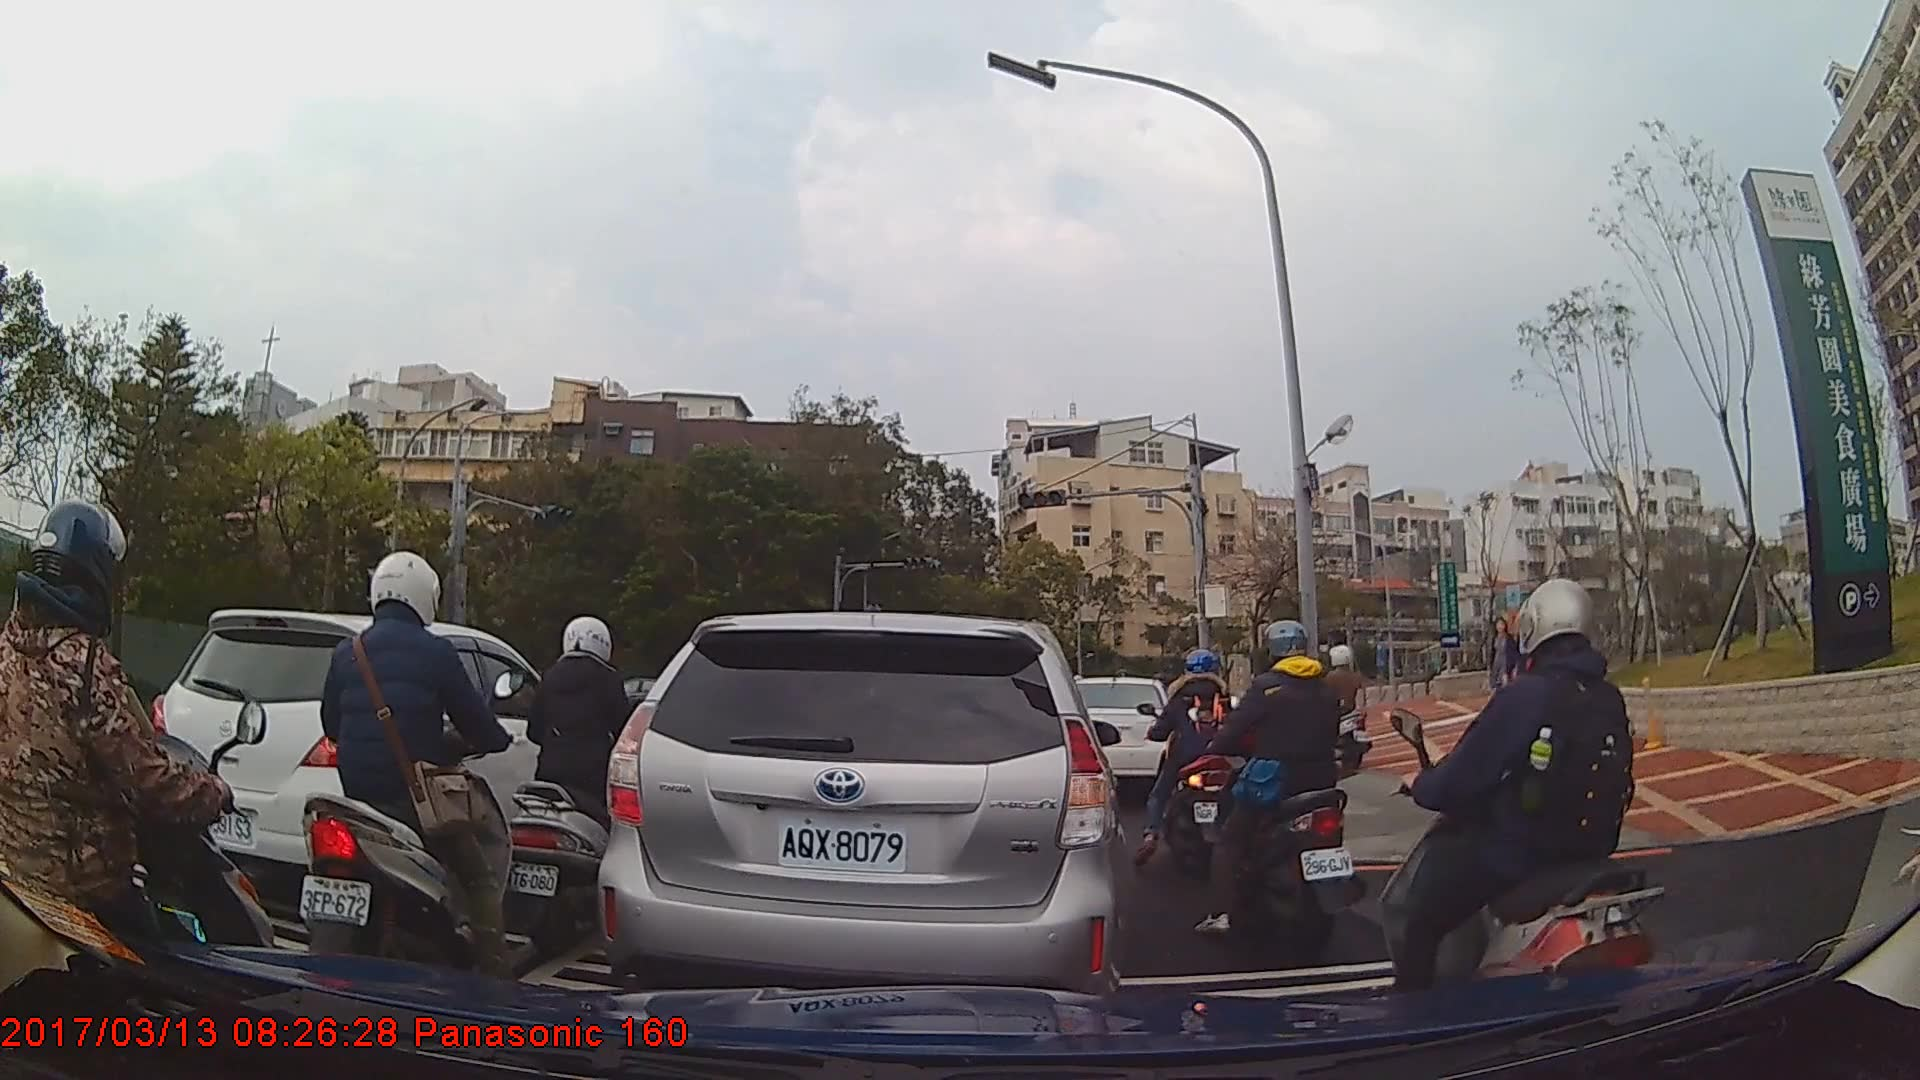pedestrian: (1507, 605, 1546, 707), (1488, 620, 1520, 710)
rider: (1, 502, 279, 1063), (1379, 580, 1665, 1040), (299, 545, 529, 1000), (508, 613, 686, 955), (1200, 615, 1364, 959), (1135, 649, 1242, 871), (1302, 642, 1370, 770)
vehicle: (596, 607, 1125, 1002), (144, 608, 604, 904), (1057, 675, 1175, 793)
